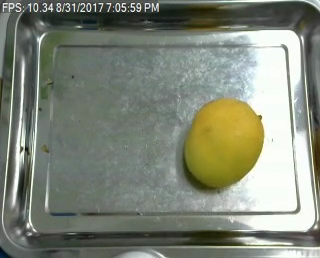Mango: (186, 100, 263, 188)
